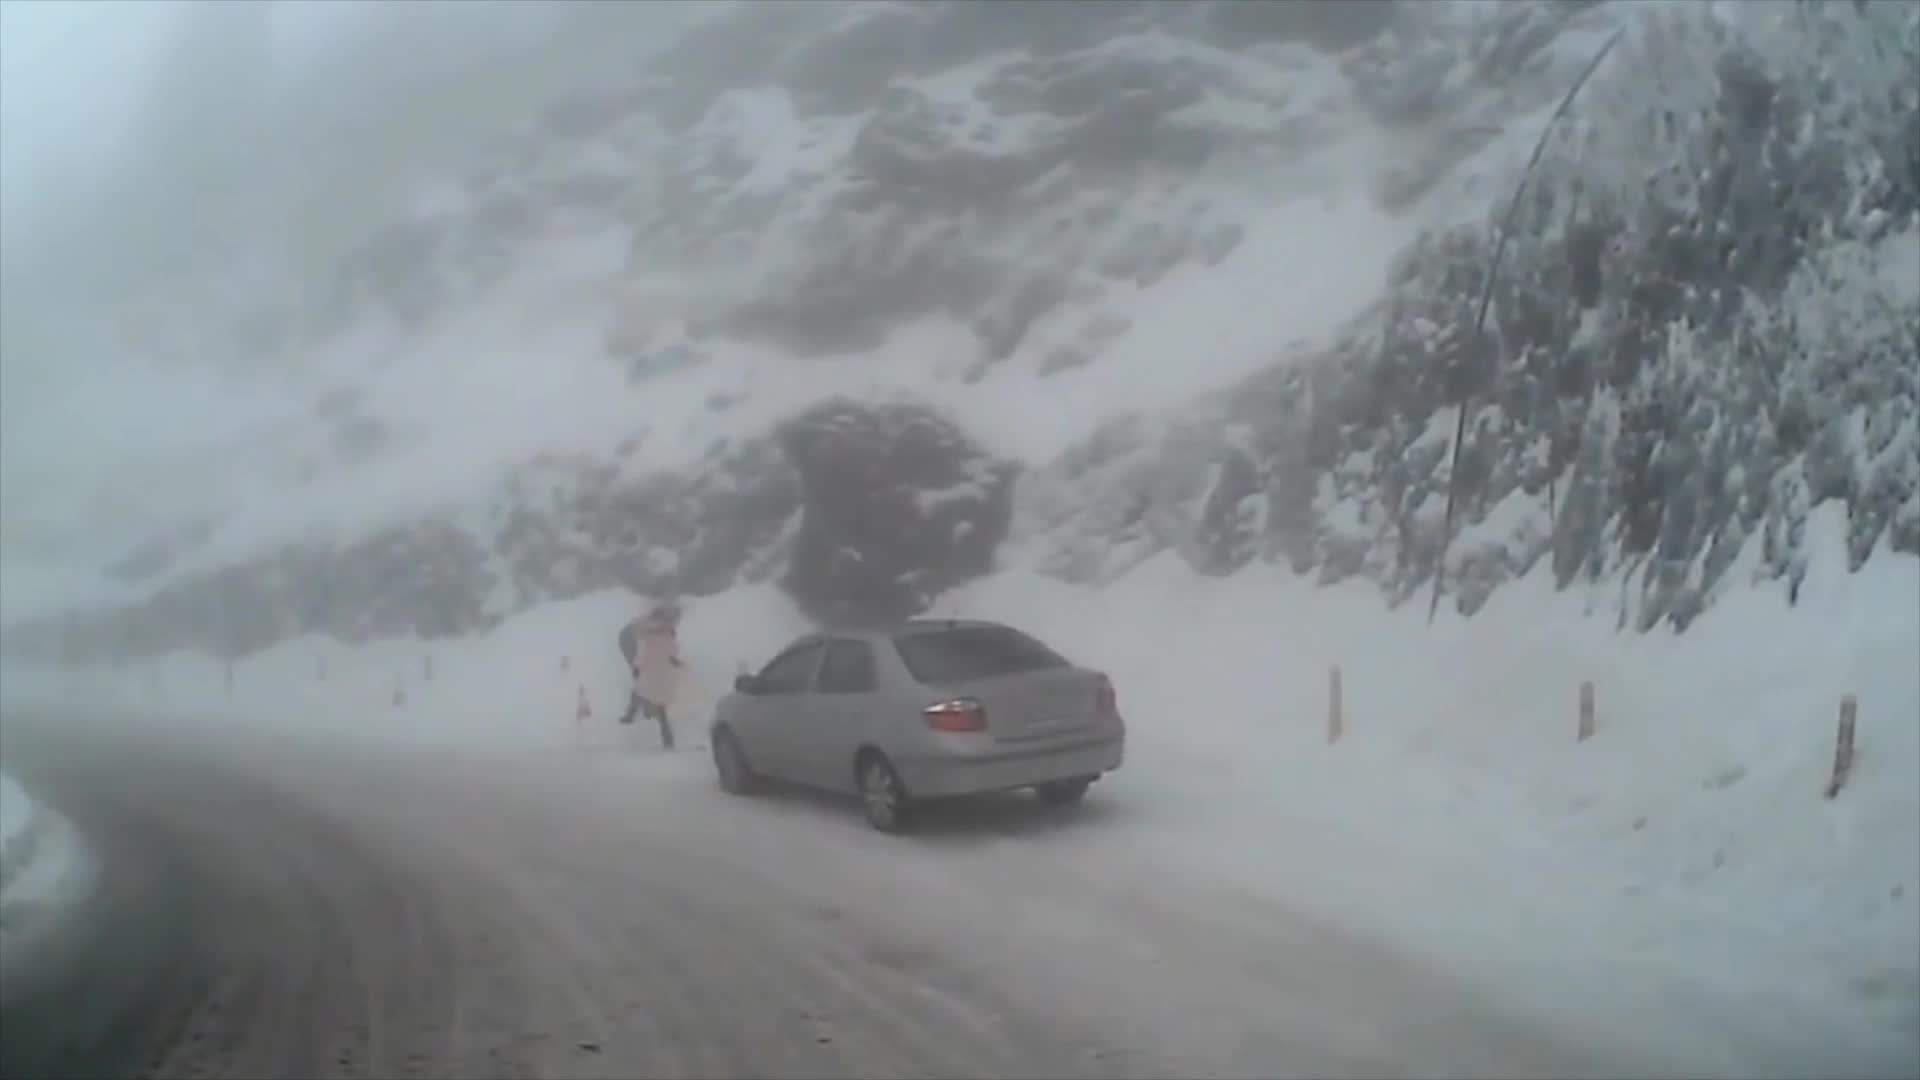pedestrian: (613, 601, 690, 749)
vehicle: (704, 619, 1124, 837)
